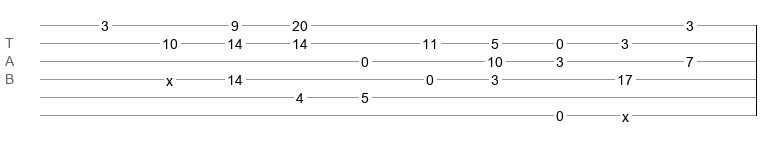0: (361, 54, 369, 64), (426, 72, 434, 82), (556, 36, 564, 46), (556, 108, 564, 118)
10: (162, 36, 178, 46), (487, 54, 503, 64)
11: (422, 36, 438, 46)
14: (227, 36, 243, 46), (227, 72, 243, 82), (292, 36, 308, 46)
17: (617, 72, 633, 82)
20: (292, 18, 308, 28)
3: (101, 18, 109, 28), (491, 72, 499, 82), (556, 54, 564, 64), (621, 36, 629, 46), (686, 18, 694, 28)
4: (296, 90, 304, 100)
5: (361, 90, 369, 100), (491, 36, 499, 46)
7: (686, 54, 694, 64)
9: (231, 18, 239, 28)
x: (166, 73, 173, 81), (622, 109, 629, 117)
